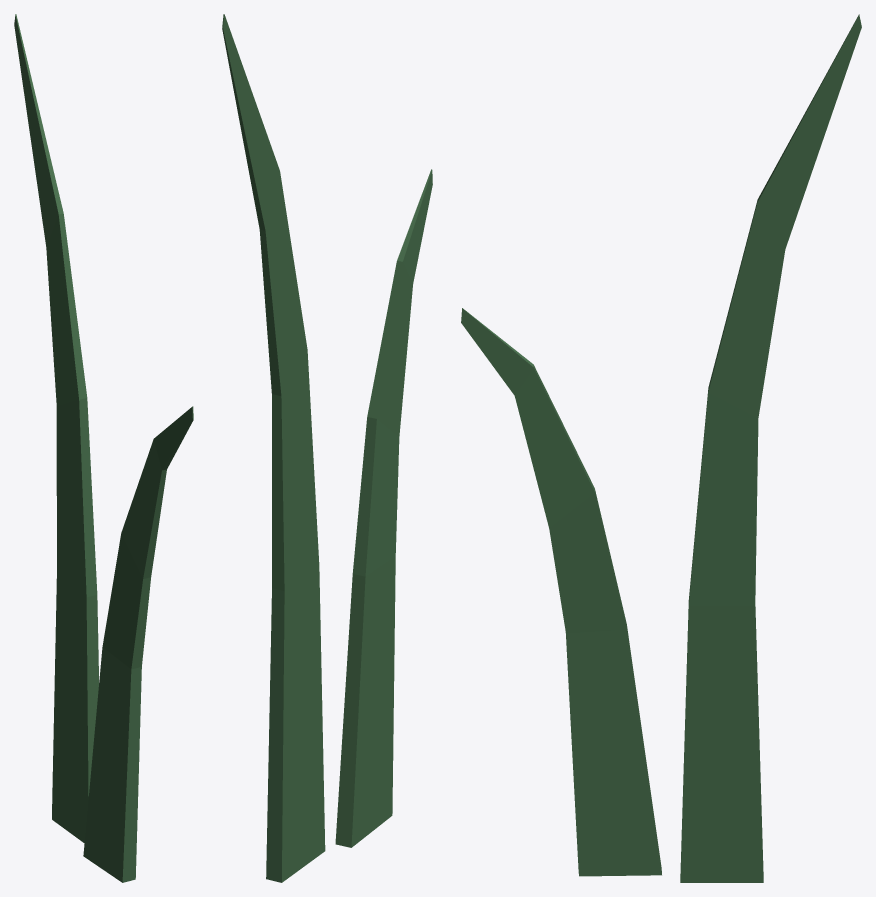
Rendered from PlainsGrass(4).fbx.
The picture shows the model from 3 angles, left to right: view 1: azimuth 30°, elevation 25°; view 2: azimuth 150°, elevation 25°; view 3: azimuth 270°, elevation 25°; orthographic projection. The views are drawn at different scales.
Visible parts, largest first — view 1: PlainsGrass(4); view 2: PlainsGrass(4); view 3: PlainsGrass(4).
Part boxes in pixels (left/top/right/bottom): PlainsGrass(4): left=14, top=14, right=193, bottom=882; PlainsGrass(4): left=222, top=14, right=432, bottom=882; PlainsGrass(4): left=461, top=14, right=861, bottom=882.
Bounding box in the file's own units: 0.0474 × 1.27 × 0.5353.
